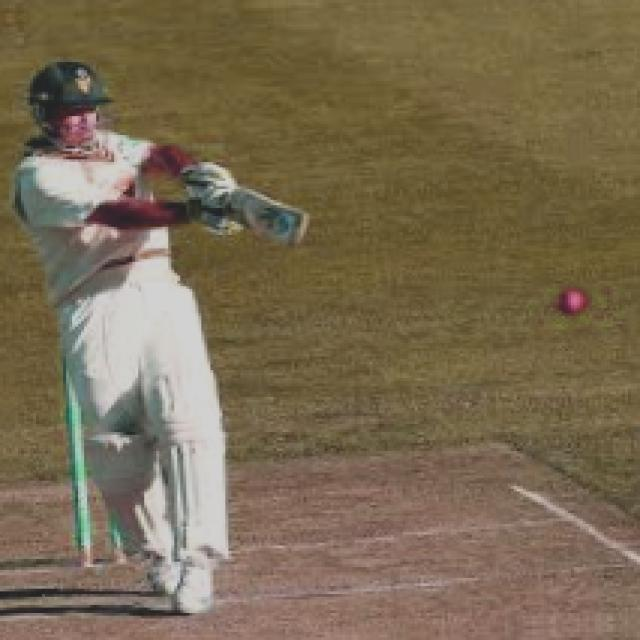toe: (284, 210, 312, 248)
